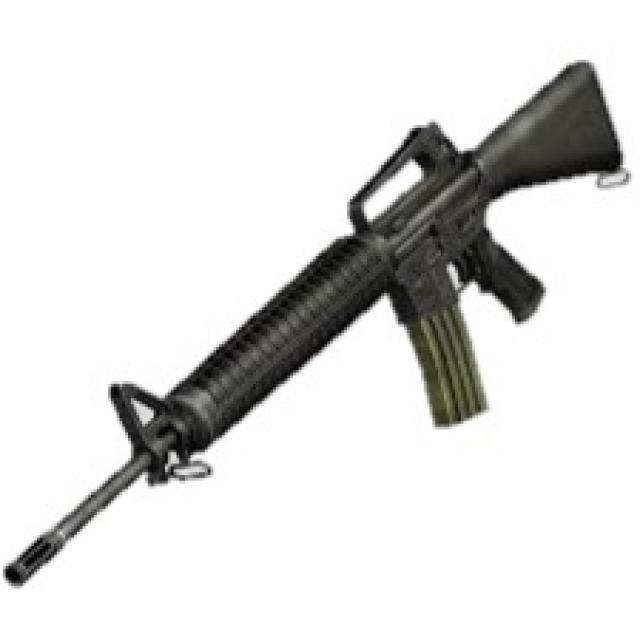rifle: (1, 49, 632, 609)
